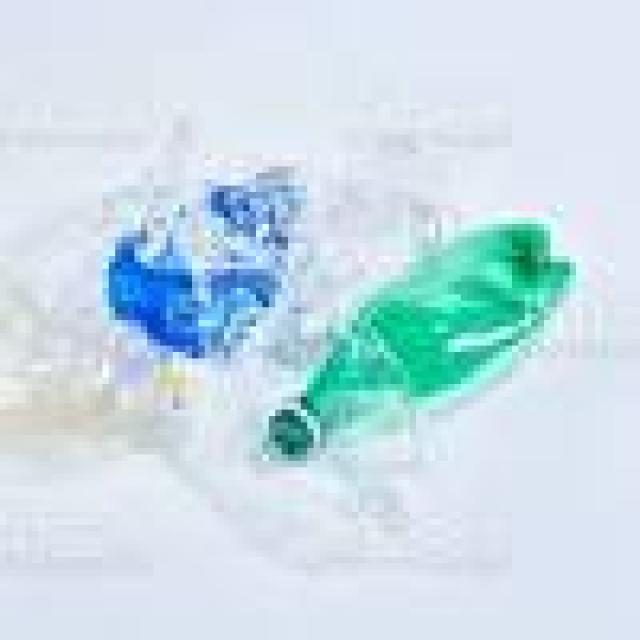bottle: (240, 207, 578, 483)
